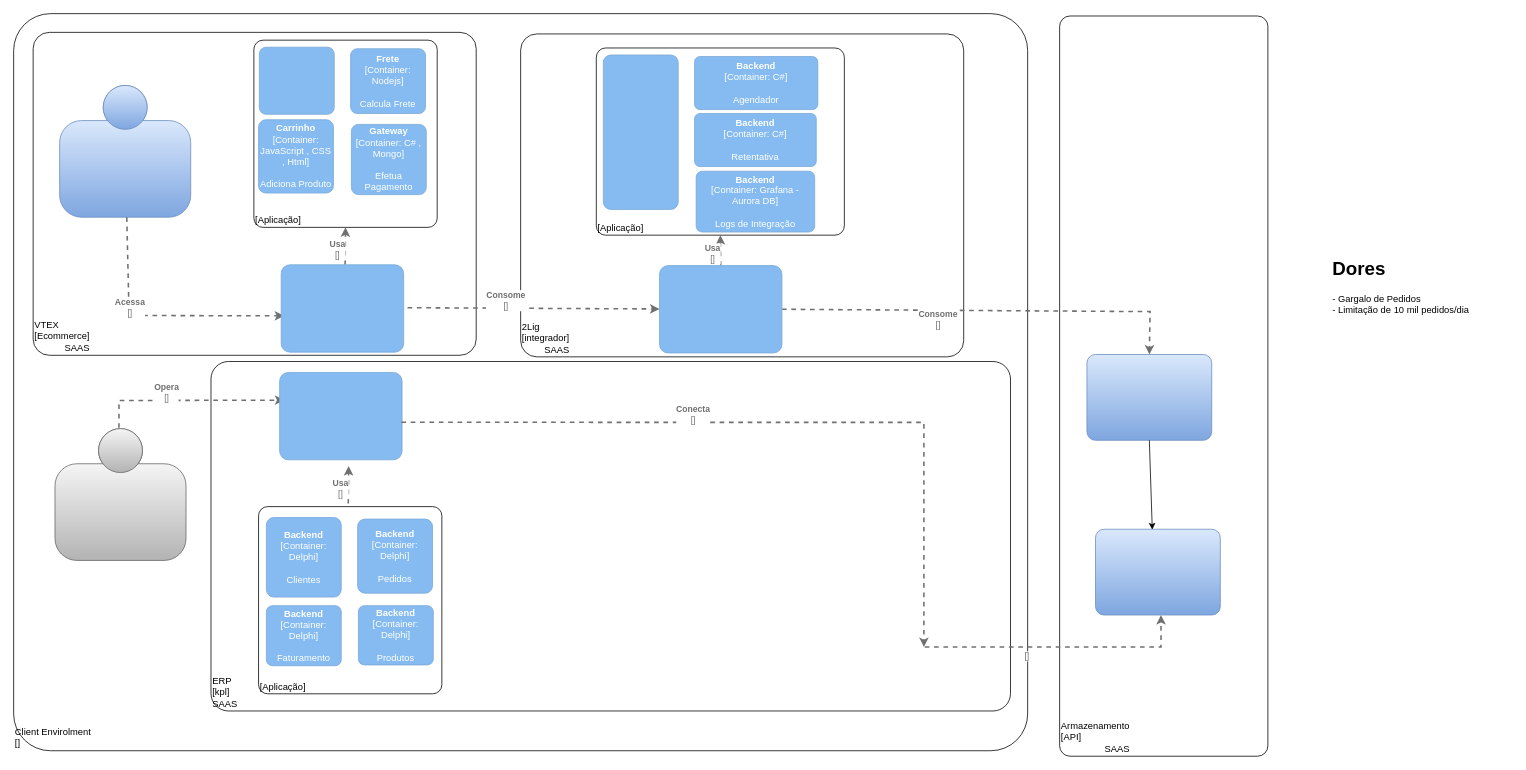
The diagram is 1526 pixels wide and 770 high, and some of its shapes have lost their labels. The centre of each missing label's shape, as x and y in pixels:
Armazenamento [Component: MySQL] Data Base: (1149,397)
Armazenamento [Component: SQLServer] Data Base: (1157,571)
Backend [Container: C#] Administra Pedido: (296,80)
Backend [Container: C#] Oquestrador: (640,131)
BackOfice [Container: Delphi] ERP: (340,416)
Cliente E-commerce [Person] Compra pelo Site: (125,151)
Frontend [Container: C#] Portal de Configuração: (720,309)
FrontEnd [Container: Java Script , CSS , Html ] Loja Virtual: (342,308)
Operação [Person] Suporte Operação: (120,494)
